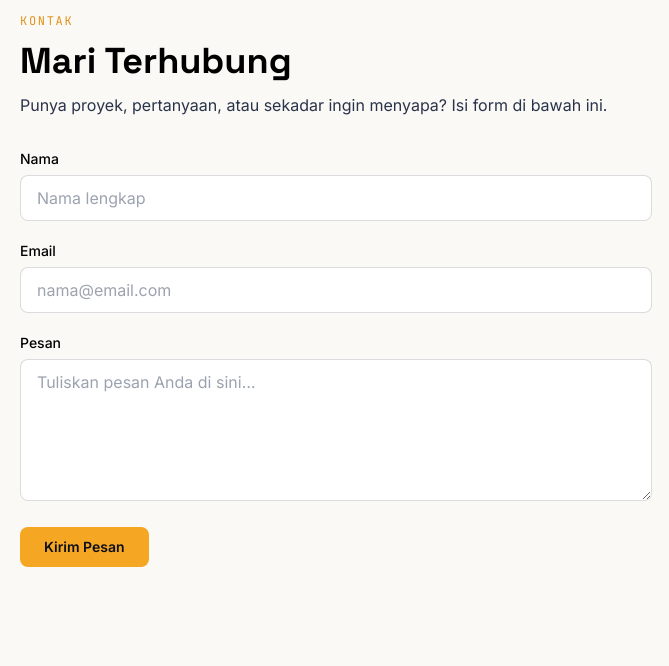
Contact form › menampilkan pesan error saat form dikirim dalam keadaan kosong
Click the button "Kirim Pesan" at (84, 547), box top-left (20, 527), bottom-right (149, 567)
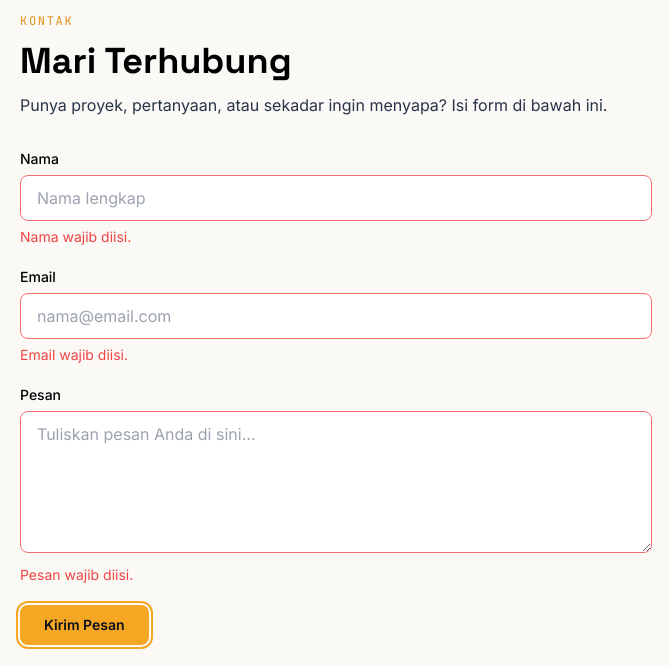
Expected: the text "Nama wajib diisi." is shown, top-left (20, 228), bottom-right (131, 245)
Expected: the text "Email wajib diisi." is shown, top-left (20, 346), bottom-right (128, 363)
Expected: the text "Pesan wajib diisi." is shown, top-left (20, 566), bottom-right (133, 583)
